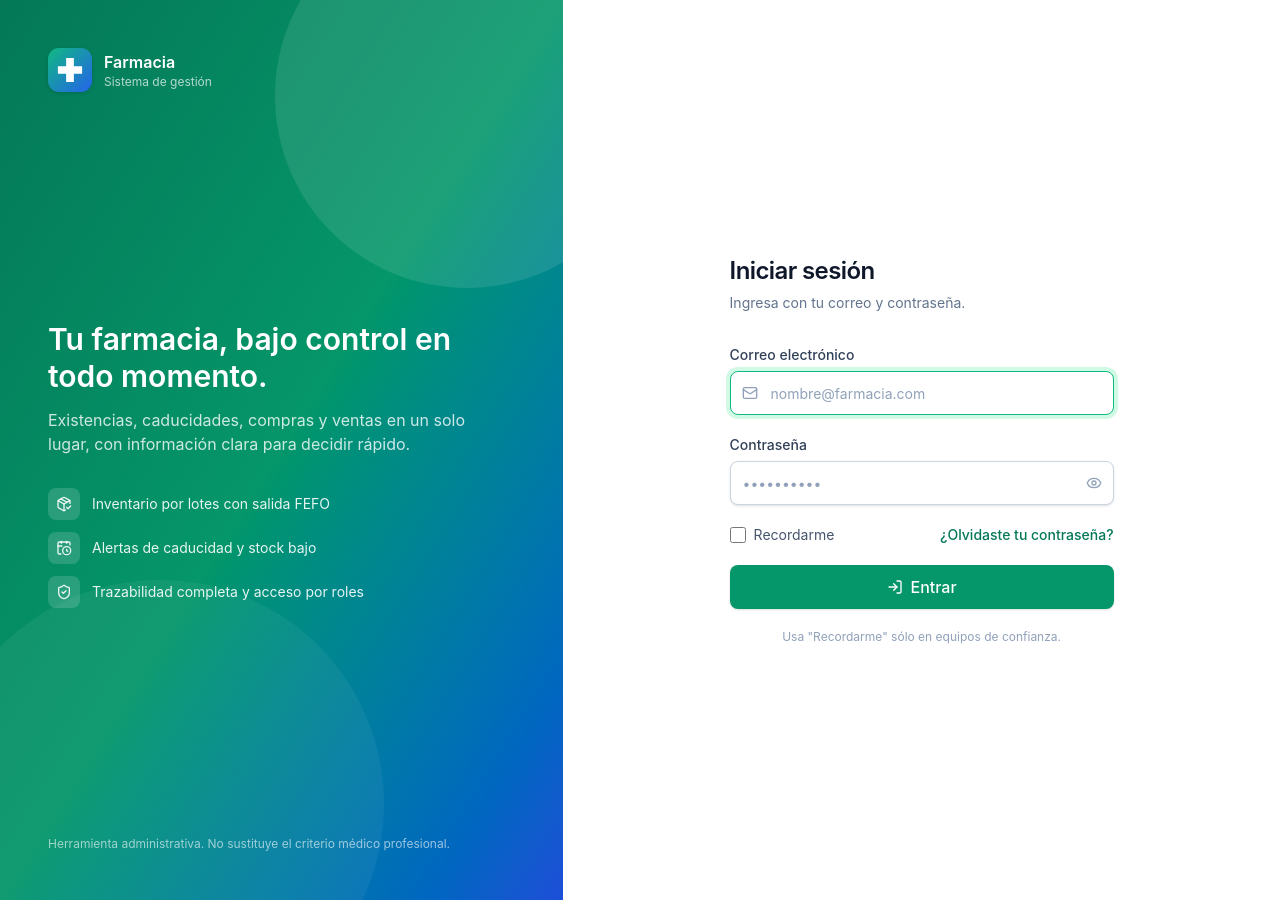
Test: LoginPage › valida antes de llamar a la API
Click the button "Entrar".
click(922, 587)  # box [730,565,1114,609]
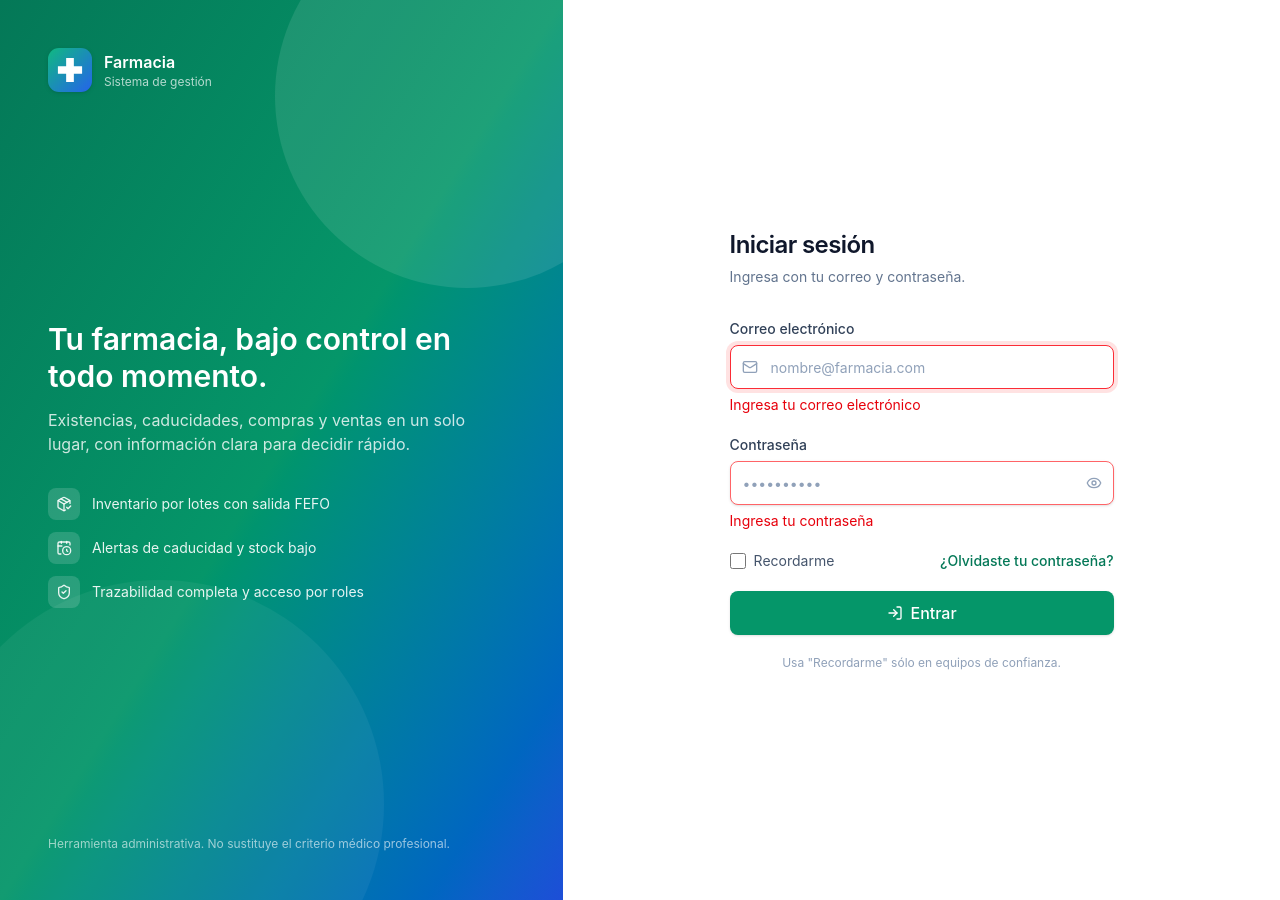
Expected: the text "Ingresa tu correo electrónico" is shown, [730,396,921,413]
Expected: the text "Ingresa tu contraseña" is shown, [730,512,874,529]
